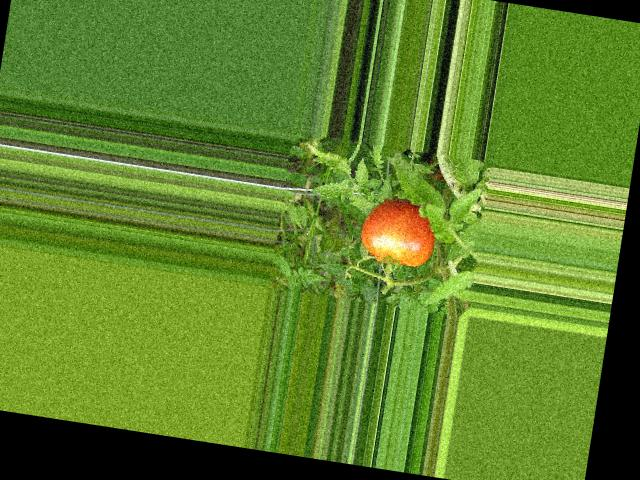tomato: (357, 194, 439, 270)
